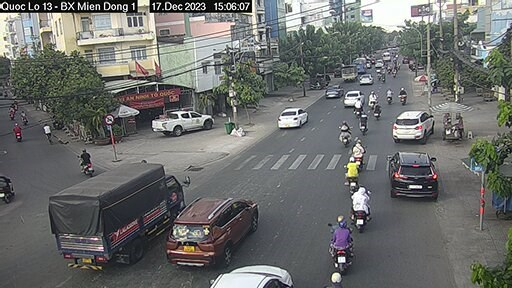car: (172, 192, 269, 258), (384, 146, 433, 200), (387, 103, 442, 145), (152, 107, 211, 139), (281, 102, 302, 132), (348, 86, 362, 112), (321, 84, 345, 99)
motorbike: (325, 207, 360, 262), (74, 143, 103, 181), (355, 187, 377, 218), (341, 157, 362, 185), (353, 136, 365, 156)
truck: (41, 162, 203, 266)
